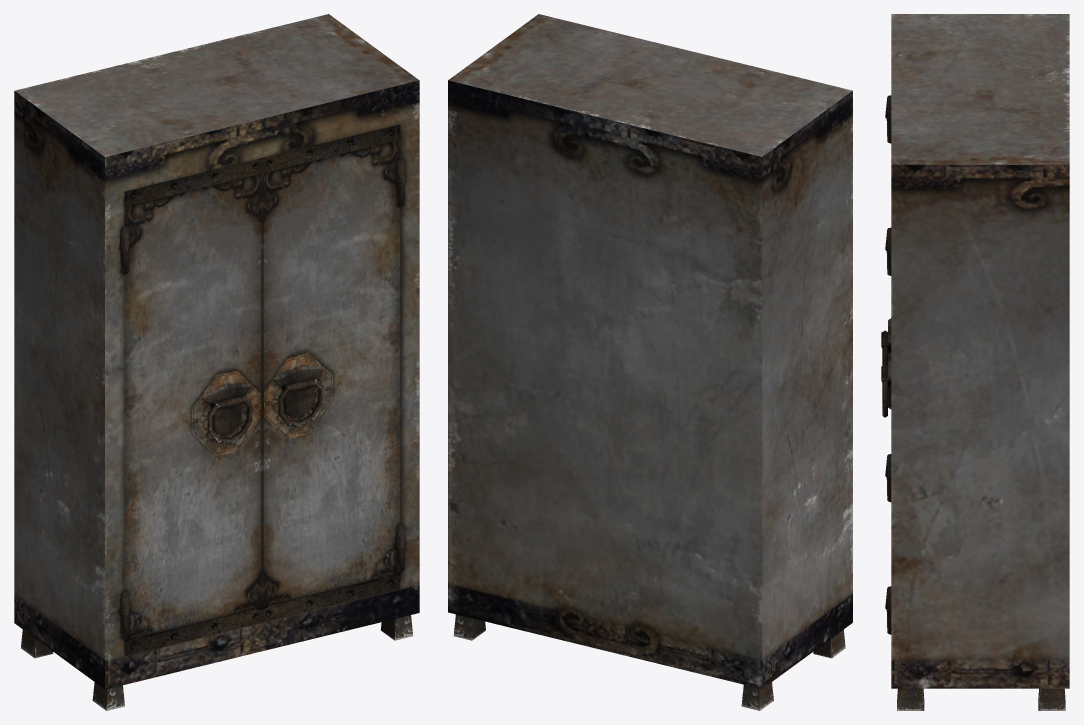
File: cabinet_metal.dae
3 renders of one model, left to right at view 1: azimuth 30°, elevation 25°; view 2: azimuth 150°, elevation 25°; view 3: azimuth 270°, elevation 25°, orthographic.
Visible parts, largest first — view 1: base, rightDoor, leftDoor; view 2: base; view 3: base, rightDoor, leftDoor.
Part boxes in pixels (left/top/right/bottom): base: left=14, top=14, right=419, bottom=710; rightDoor: left=262, top=124, right=406, bottom=622; leftDoor: left=119, top=158, right=262, bottom=656; base: left=448, top=14, right=852, bottom=710; base: left=886, top=14, right=1069, bottom=710; rightDoor: left=881, top=227, right=891, bottom=610; leftDoor: left=881, top=95, right=891, bottom=478.
Bounding box in the file's own units: 1.66 × 2.81 × 0.8761.
